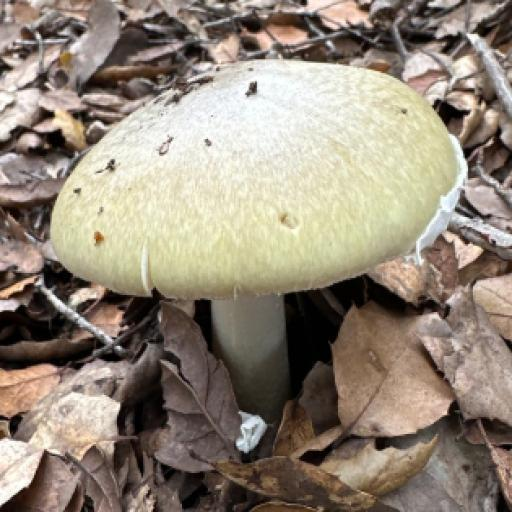mushroom: (20, 0, 503, 441)
